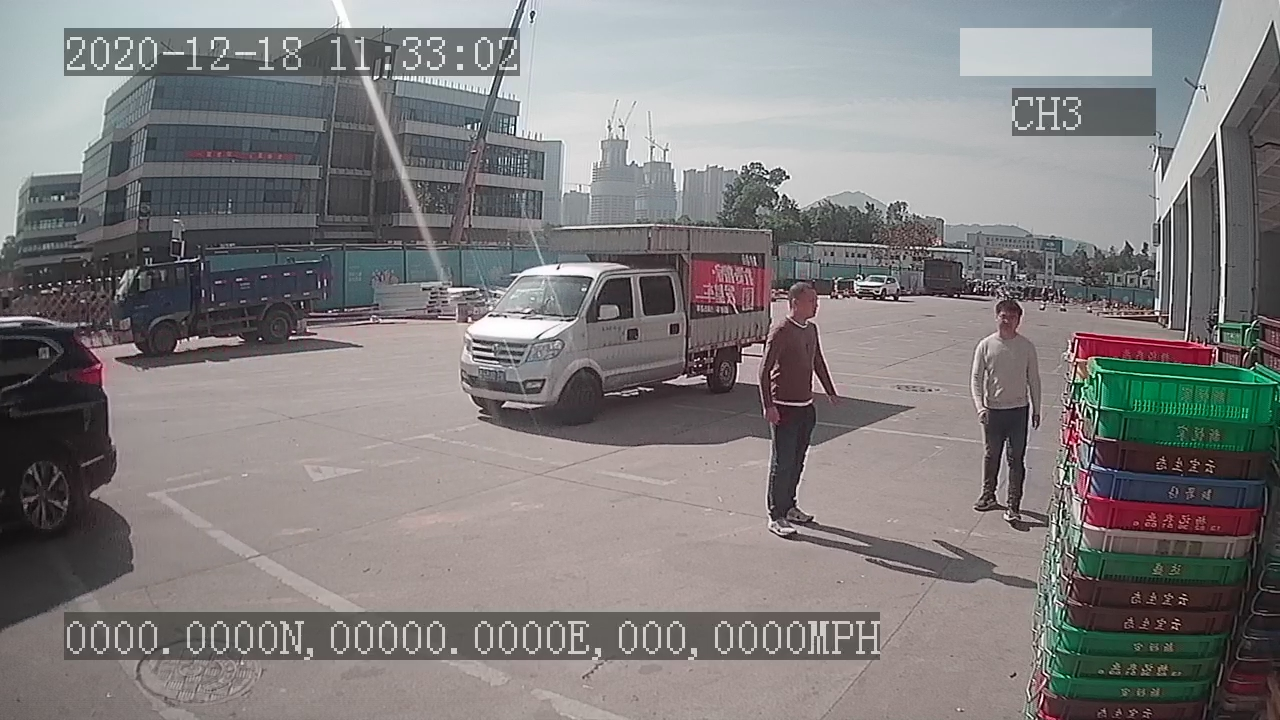person: (969, 295, 1045, 527)
